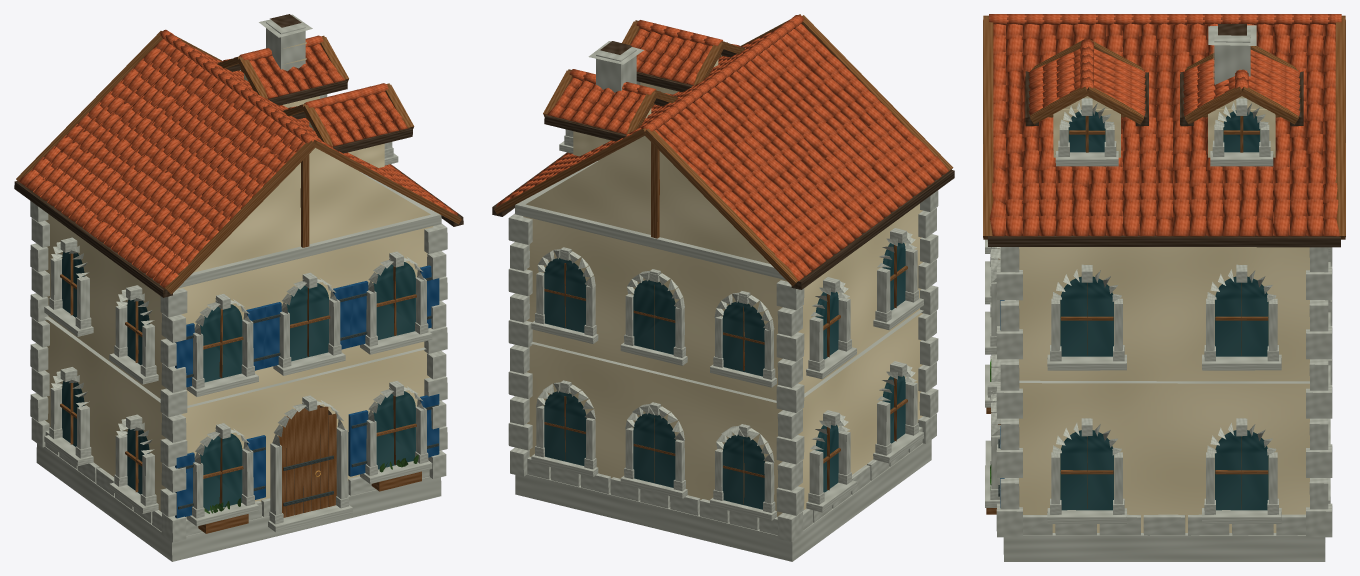
Rendered from townhouse_a.glb.
3 views of the same model, side by side, from view 1: azimuth 30°, elevation 25°; view 2: azimuth 150°, elevation 25°; view 3: azimuth 270°, elevation 25° (orthographic). The views are drawn at different scales.
Parts seen in each view (by area): view 1: townhouse_a_Structure, townhouse_a_Roof, townhouse_a_Joinery, townhouse_a_Detail, townhouse_a_Glazing, townhouse_a_Metalwork; view 2: townhouse_a_Structure, townhouse_a_Roof, townhouse_a_Detail, townhouse_a_Glazing, townhouse_a_Joinery; view 3: townhouse_a_Structure, townhouse_a_Roof, townhouse_a_Detail, townhouse_a_Glazing, townhouse_a_Joinery.
Part boxes in pixels (box(x1,y1,x2,y2)): townhouse_a_Structure: box(30, 14, 447, 561); townhouse_a_Roof: box(18, 29, 458, 288); townhouse_a_Joinery: box(14, 30, 463, 533); townhouse_a_Detail: box(44, 94, 432, 532); townhouse_a_Glazing: box(62, 251, 415, 510); townhouse_a_Metalwork: box(178, 277, 438, 509); townhouse_a_Structure: box(508, 41, 938, 561); townhouse_a_Roof: box(496, 15, 949, 280); townhouse_a_Detail: box(531, 81, 923, 520); townhouse_a_Glazing: box(544, 243, 905, 509); townhouse_a_Joinery: box(492, 14, 954, 503); townhouse_a_Structure: box(996, 24, 1332, 561); townhouse_a_Roof: box(989, 14, 1341, 236); townhouse_a_Detail: box(985, 98, 1330, 523); townhouse_a_Glazing: box(1060, 110, 1268, 510); townhouse_a_Joinery: box(983, 15, 1345, 514).
Bounding box in the file's own units: 6.93 × 9.26 × 6.1.
4 materials, 4 textured.
